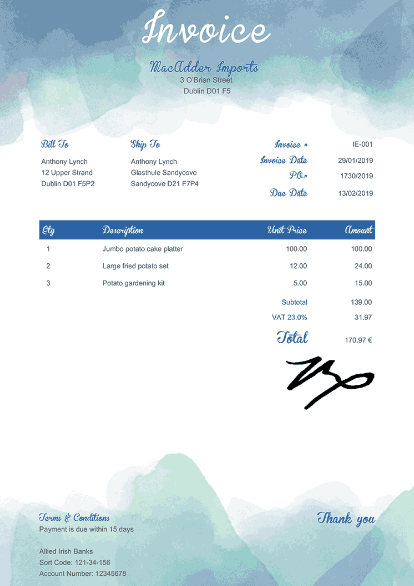Table: (31, 204, 388, 346)
